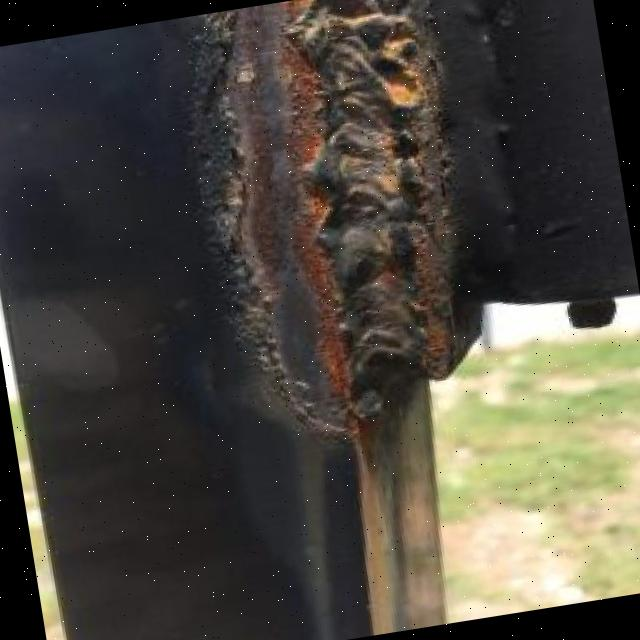Corrosion: (171, 0, 504, 467)
